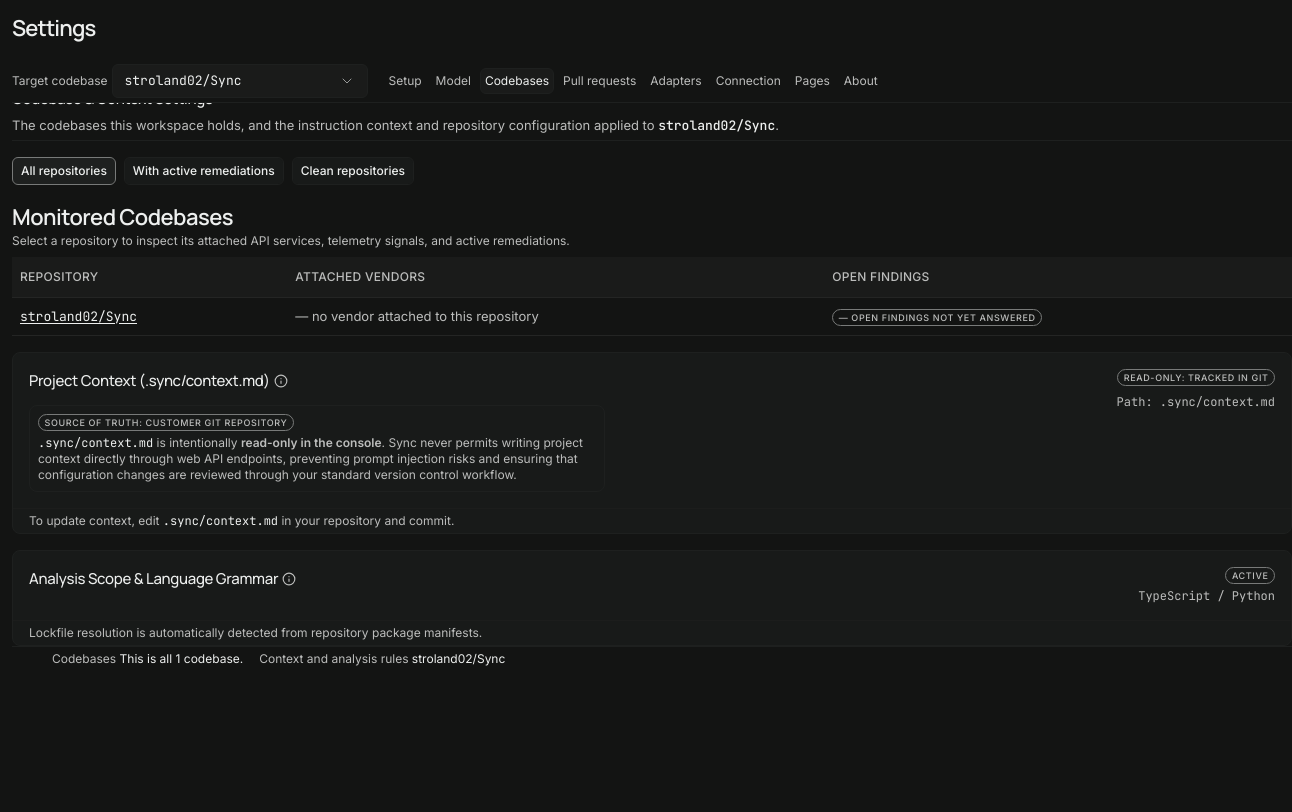
Test case: Settings on ScreenFrame › says a reference group holds no records rather than leaving the band blank
Click the button "About".
click(861, 81)  # box [839, 68, 883, 94]
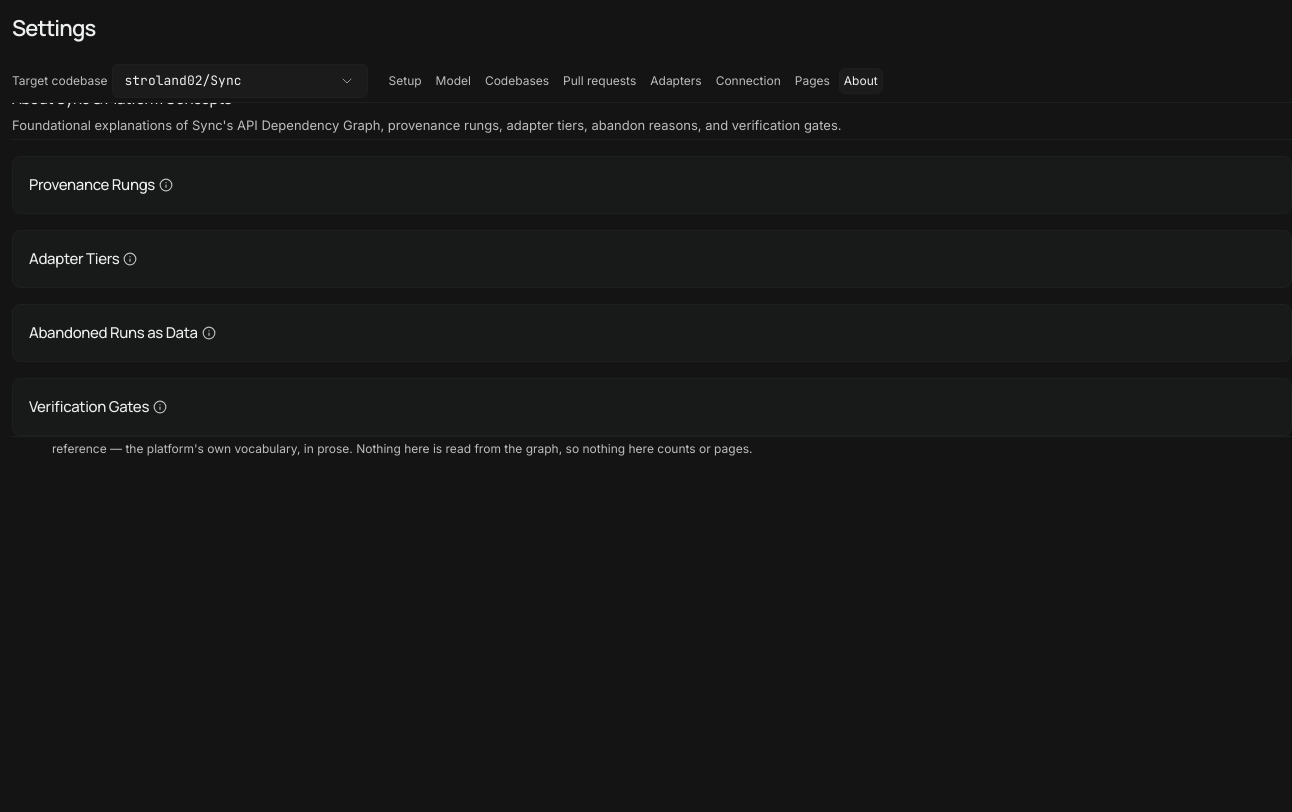
Check: the text "reference" is shown, box [52, 441, 752, 456]
